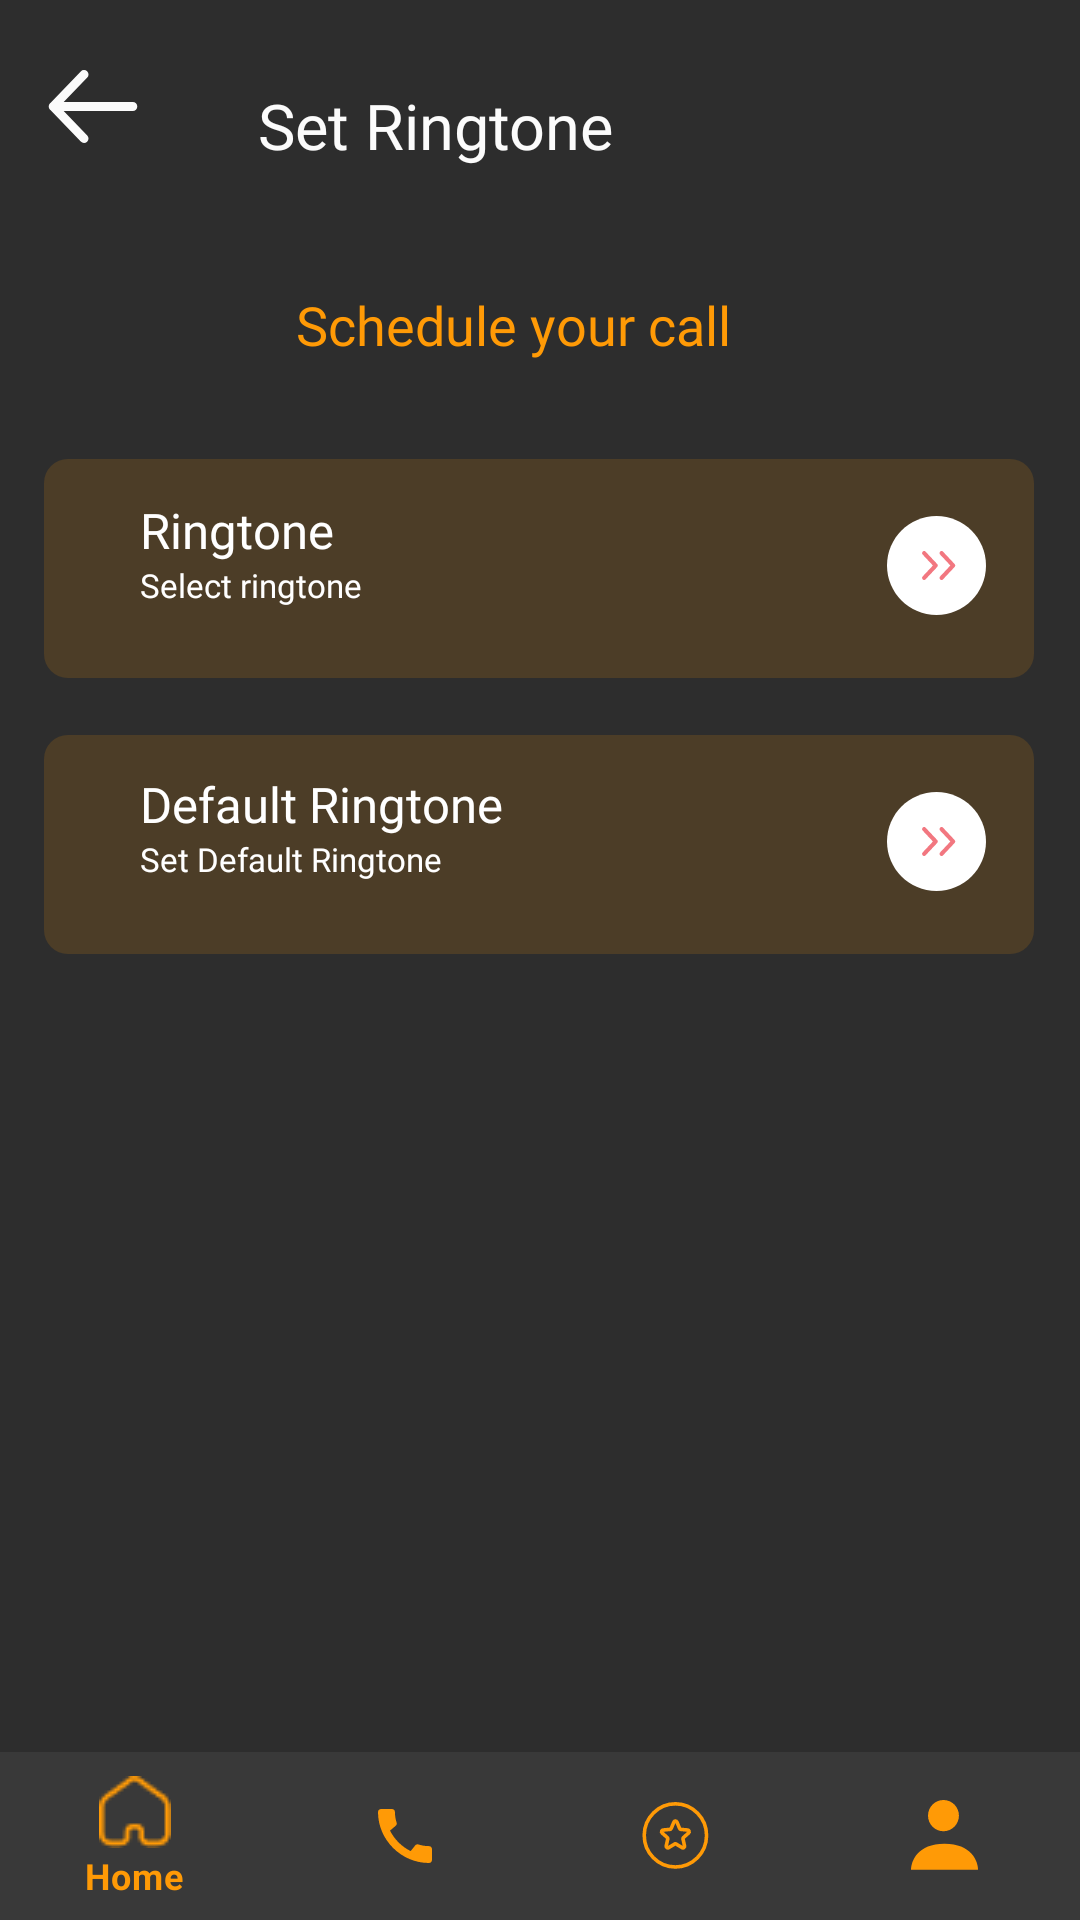

Where icons sit on this 1080x1920 app screen, as [x1=x1, y1=y1, x2=x2, y2=y2]:
back: [x1=48, y1=70, x2=138, y2=143]
